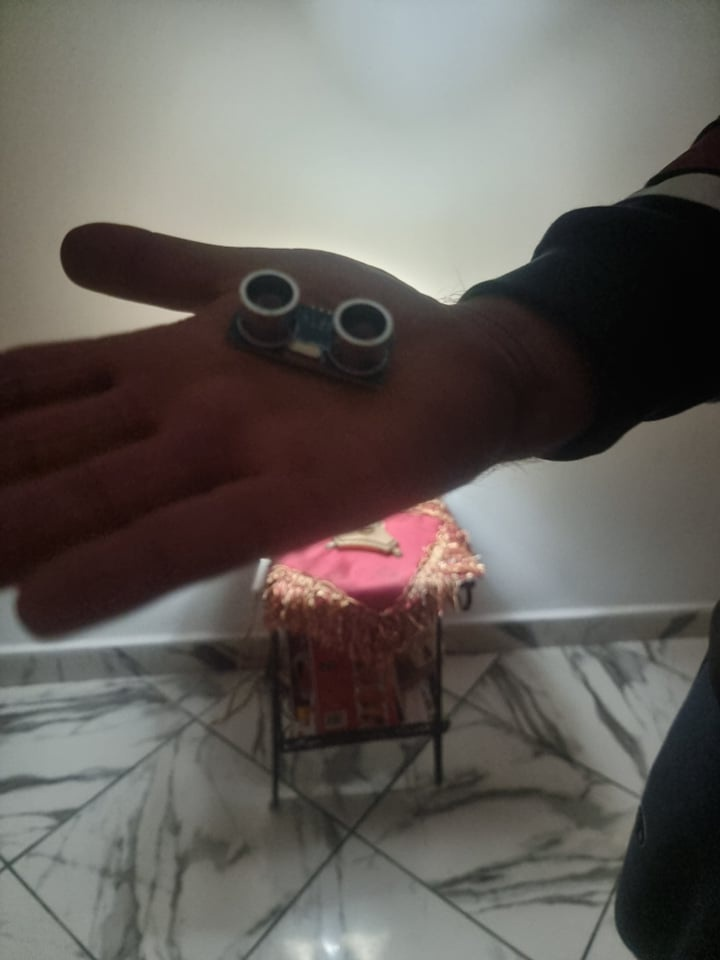SENSOR: (219, 262, 399, 399)
